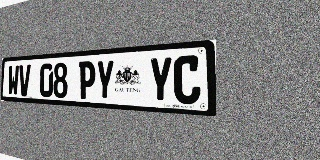0: (40, 63, 53, 97)
8: (53, 62, 68, 98)
C: (173, 55, 201, 105)
P: (78, 61, 96, 99)
V: (19, 64, 31, 96)
W: (8, 65, 19, 96)
Y: (148, 56, 173, 103), (96, 60, 114, 100)
